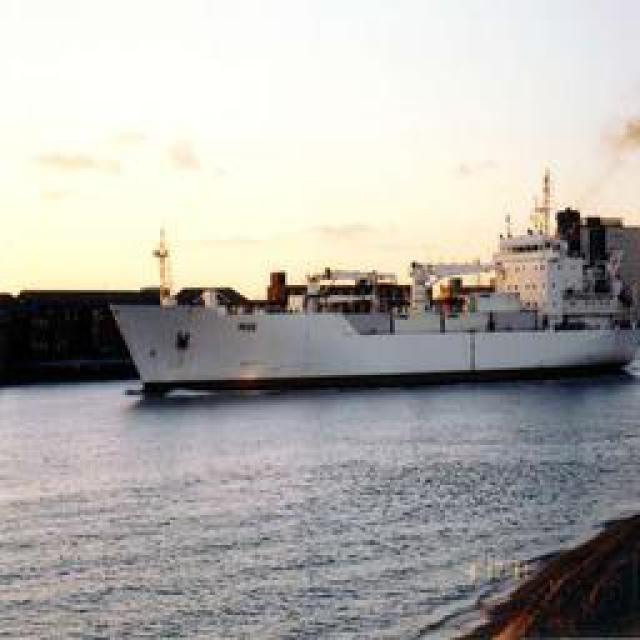Ship: (115, 210, 640, 398)
